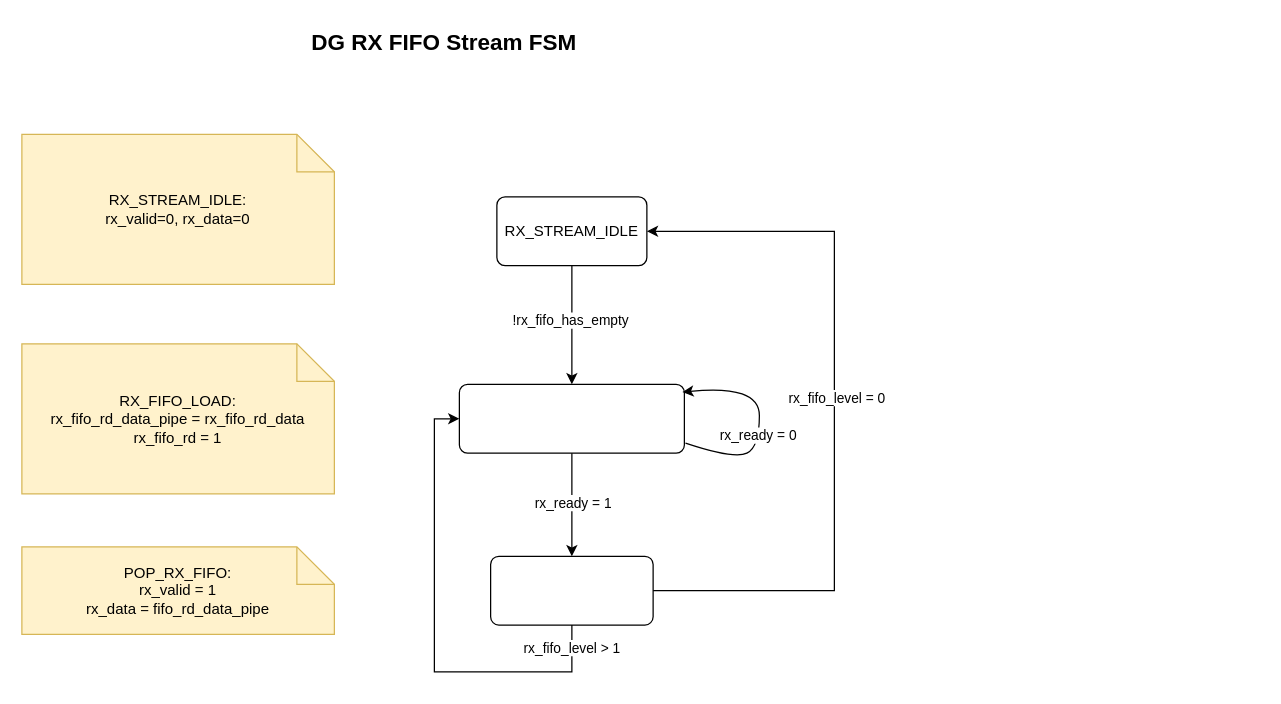
This 1281x704 diagram has some shape labels left out. Each missing label, with the centre of its shape:
"POP_RX_FIFO" belongs at pixel 571 590.
"RX_FIFO_LOAD" belongs at pixel 571 418.
